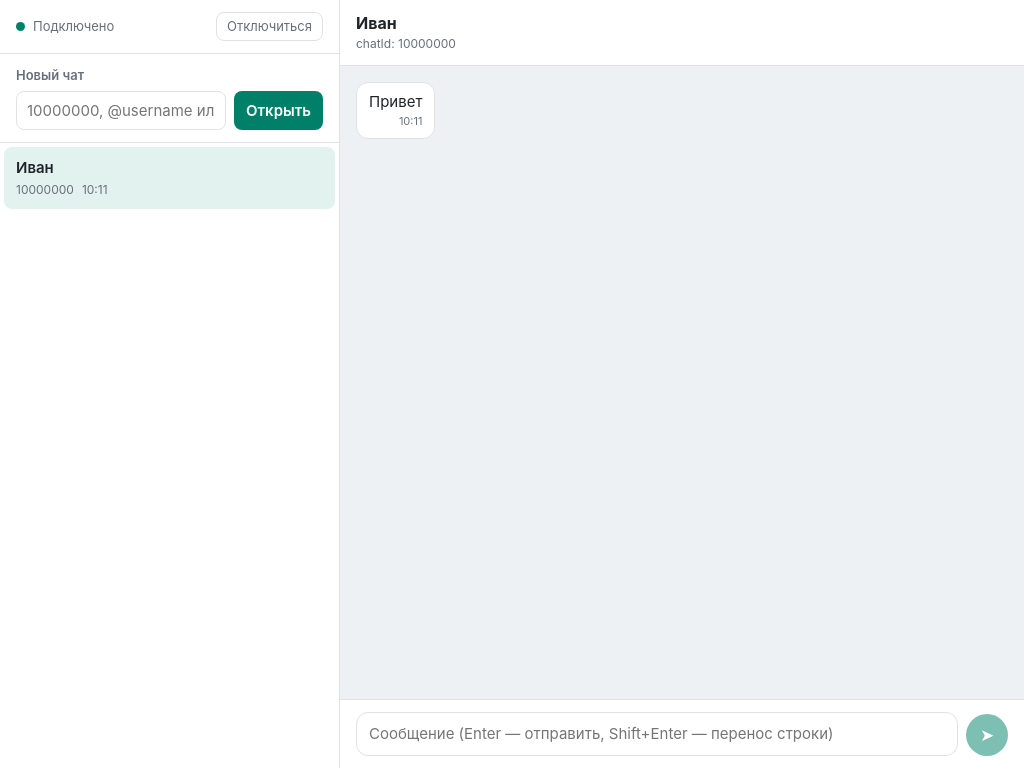
Test: Отправка сообщений › помечает сообщение как ошибочное при отказе API
Check: the text "Привет" is shown, box [369, 91, 422, 112]
In the text box named "Текст сообщения": [657, 734] box [356, 712, 958, 756], type "Не отправилось"
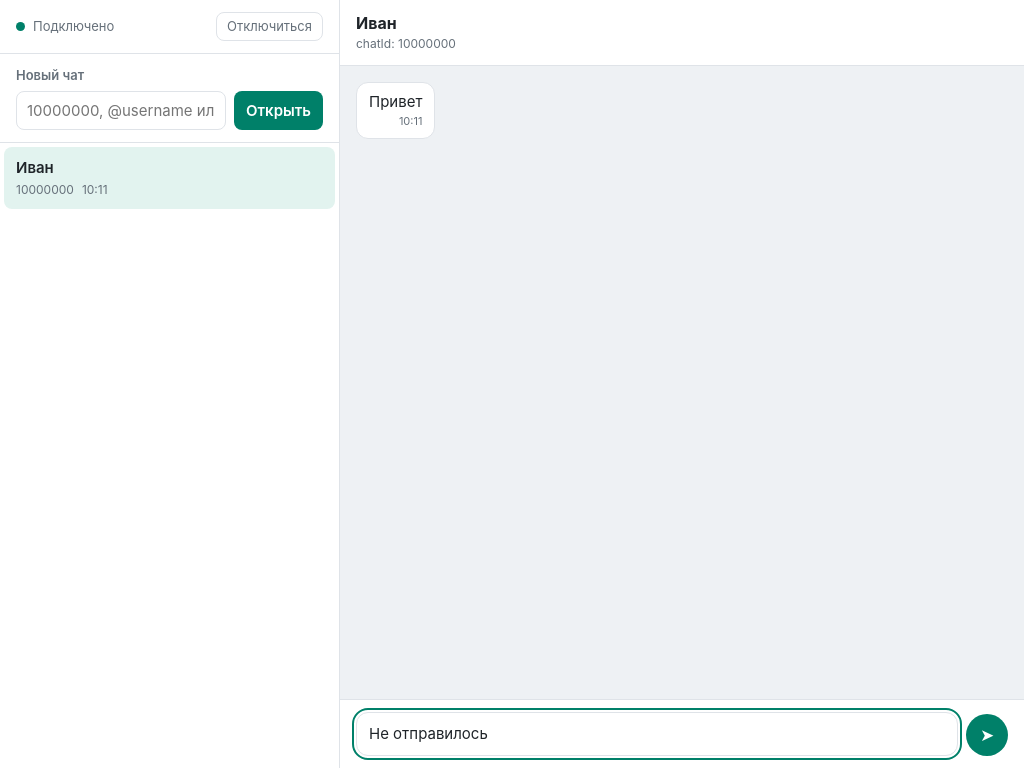
Click the button named "Отправить сообщение": [987, 735] box [966, 714, 1008, 756]
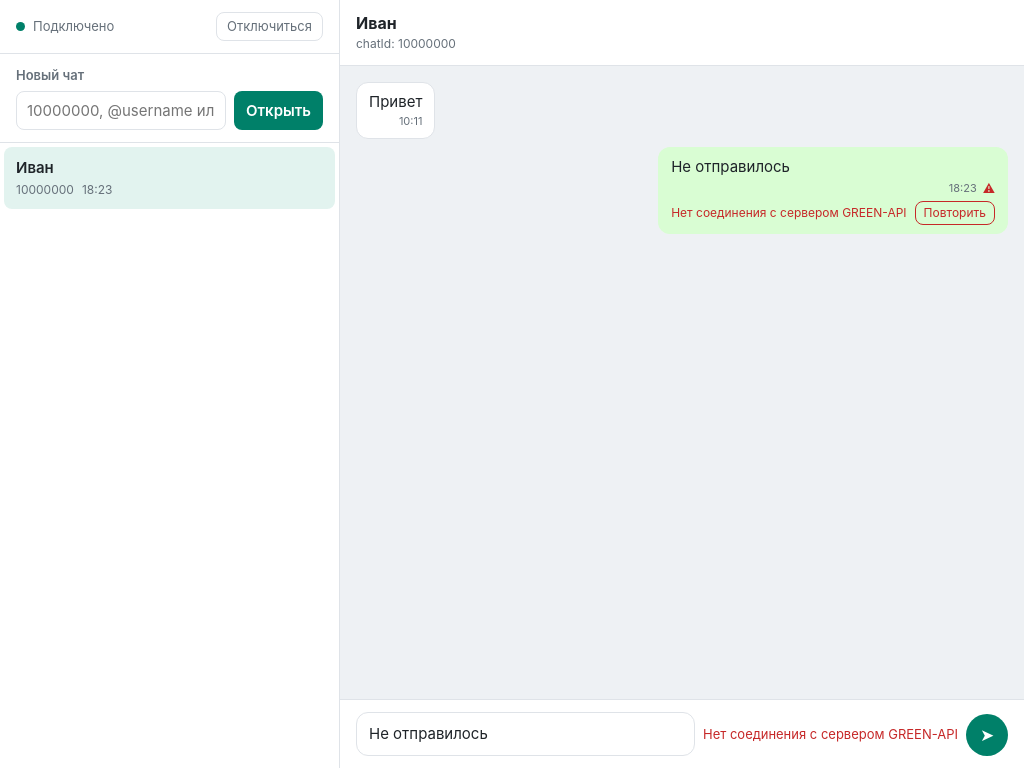
Check: the message "Нет соединения с сервером GREEN-API" below "Не отправилось" is shown, box [671, 205, 907, 220]
Check: the text named "Ошибка отправки" is shown, box [983, 180, 995, 197]
